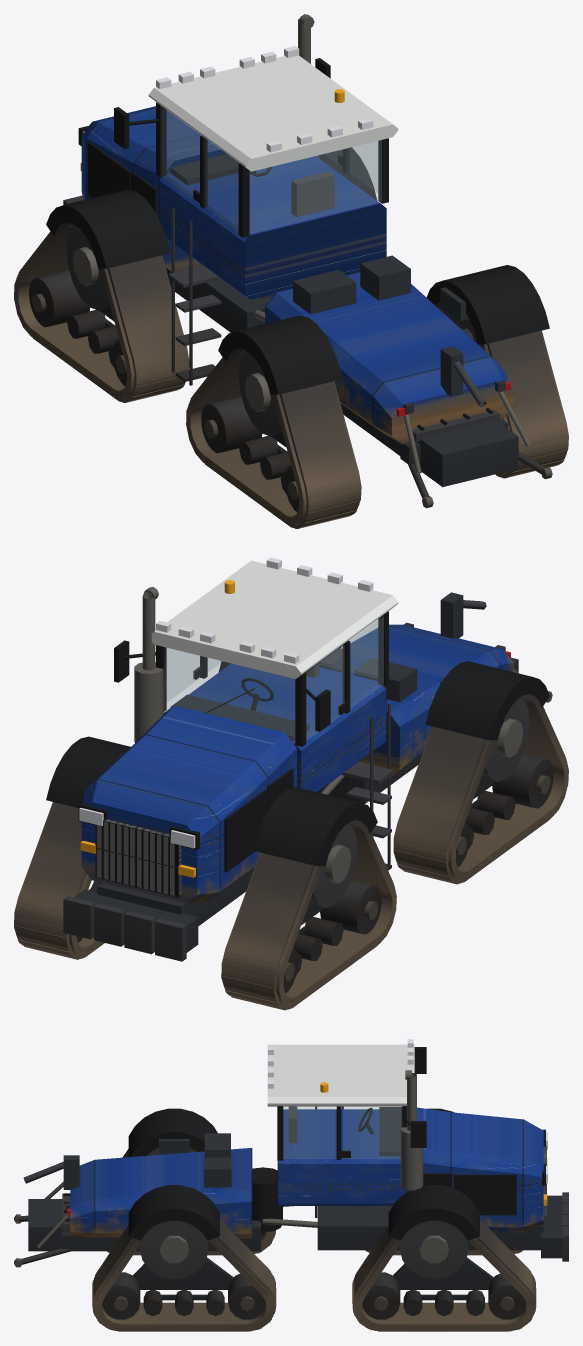
Rendered from Tractor_Heavy_Tracked.glb.
3 renders of one model, top to bottom at view 1: azimuth 30°, elevation 25°; view 2: azimuth 150°, elevation 25°; view 3: azimuth 270°, elevation 25°, orthographic. The views are drawn at different scales.
Visible parts, largest first — view 1: Chassis_Front, Chassis_Rear, Wheel_RL, Wheel_FL, Track_Cleats_RL_0, Track_Idler_F_FL, Track_Idler_F_RL, Track_Cleats_FL_0, Track_Cleats_RL_3, Track_Sprocket_FL, Track_Sprocket_RL, Track_Cleats_FL_3 (+15 smaller); view 2: Chassis_Front, Chassis_Rear, Wheel_FL, Wheel_RL, Track_Cleats_FL_0, Track_Cleats_FL_3, Track_Cleats_FL_1, Track_Cleats_FL_2, Track_Sprocket_FL, Track_Sprocket_RL, Track_Cleats_RL_3, Track_Cleats_RL_0 (+16 smaller); view 3: Chassis_Front, Chassis_Rear, Wheel_RR, Wheel_FR, Track_Sprocket_FR, Track_Sprocket_RR, Track_Idler_R_FR, Track_Idler_R_RR, Track_Idler_F_RR, Track_Idler_F_FR, Track_Cleats_FR_0, Track_Cleats_RR_0 (+14 smaller).
Part boxes in pixels (x1=…): Chassis_Front: x1=46, y1=14, x2=398, y2=385; Chassis_Rear: x1=218, y1=255, x2=552, y2=508; Wheel_RL: x1=186, y1=348, x2=361, y2=525; Wheel_FL: x1=14, y1=222, x2=189, y2=399; Track_Cleats_RL_0: x1=192, y1=358, x2=359, y2=527; Track_Idler_F_FL: x1=29, y1=270, x2=89, y2=327; Track_Idler_F_RL: x1=201, y1=396, x2=262, y2=453; Track_Cleats_FL_0: x1=20, y1=232, x2=187, y2=401; Track_Cleats_RL_3: x1=195, y1=357, x2=360, y2=528; Track_Sprocket_FL: x1=66, y1=226, x2=109, y2=310; Track_Sprocket_RL: x1=238, y1=352, x2=281, y2=436; Track_Cleats_FL_3: x1=23, y1=231, x2=188, y2=402; Chassis_Front: x1=46, y1=557, x2=398, y2=961; Chassis_Rear: x1=218, y1=592, x2=552, y2=803; Wheel_FL: x1=221, y1=820, x2=396, y2=1006; Wheel_RL: x1=393, y1=694, x2=568, y2=881; Track_Cleats_FL_0: x1=222, y1=837, x2=390, y2=1009; Track_Cleats_FL_3: x1=222, y1=842, x2=392, y2=1008; Track_Cleats_FL_1: x1=222, y1=835, x2=388, y2=1010; Track_Cleats_FL_2: x1=222, y1=832, x2=393, y2=1009; Track_Sprocket_FL: x1=310, y1=824, x2=357, y2=907; Track_Sprocket_RL: x1=482, y1=698, x2=529, y2=781; Track_Cleats_RL_3: x1=394, y1=717, x2=564, y2=882; Track_Cleats_RL_0: x1=394, y1=712, x2=562, y2=883; Chassis_Front: x1=262, y1=1039, x2=568, y2=1261; Chassis_Rear: x1=14, y1=1108, x2=282, y2=1267; Wheel_RR: x1=95, y1=1220, x2=272, y2=1330; Wheel_FR: x1=355, y1=1220, x2=532, y2=1330; Track_Sprocket_FR: x1=399, y1=1222, x2=468, y2=1279; Track_Sprocket_RR: x1=139, y1=1222, x2=208, y2=1279; Track_Idler_R_FR: x1=362, y1=1272, x2=400, y2=1319; Track_Idler_R_RR: x1=102, y1=1272, x2=140, y2=1319; Track_Idler_F_RR: x1=228, y1=1273, x2=265, y2=1319; Track_Idler_F_FR: x1=488, y1=1273, x2=526, y2=1319; Track_Cleats_FR_0: x1=353, y1=1223, x2=535, y2=1331; Track_Cleats_RR_0: x1=93, y1=1224, x2=275, y2=1331.
Size of the model in its own units: 3.56 by 4.02 by 8.34.
Materials: 2 (1 with a texture image).
